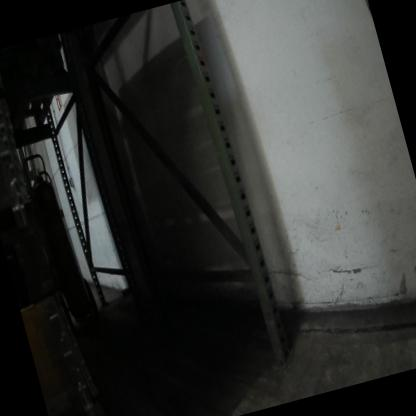pallet: (0, 59, 84, 163)
